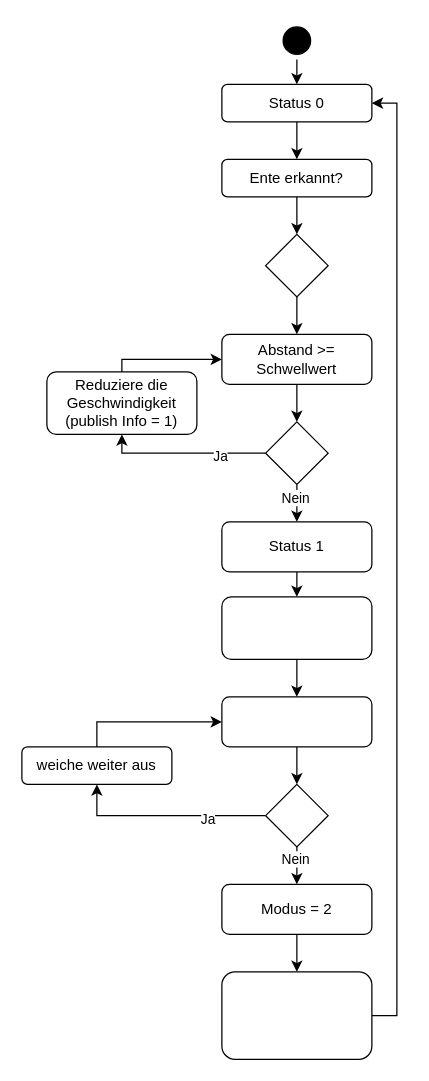
The diagram is 429 pixels wide and 1081 high, and some of its shapes have lost their labels. Each missing label, with the centre of its shape:
"Fahre zurück auf die rechte Spur (publish Info = 2 und target_x)" belongs at point 296,1015.
"Ist eine Ente auf der rechten Spur" belongs at point 296,721.
"Starte das Ausweichen (publish Info = 2 und target_x)" belongs at point 296,627.
